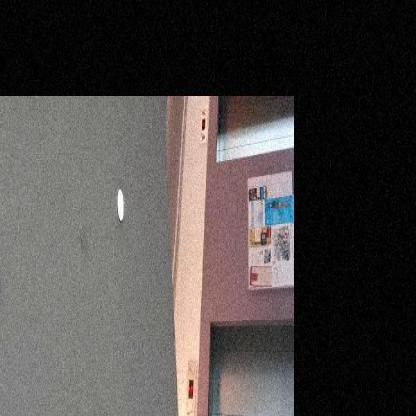light_off: (0, 226, 10, 340)
